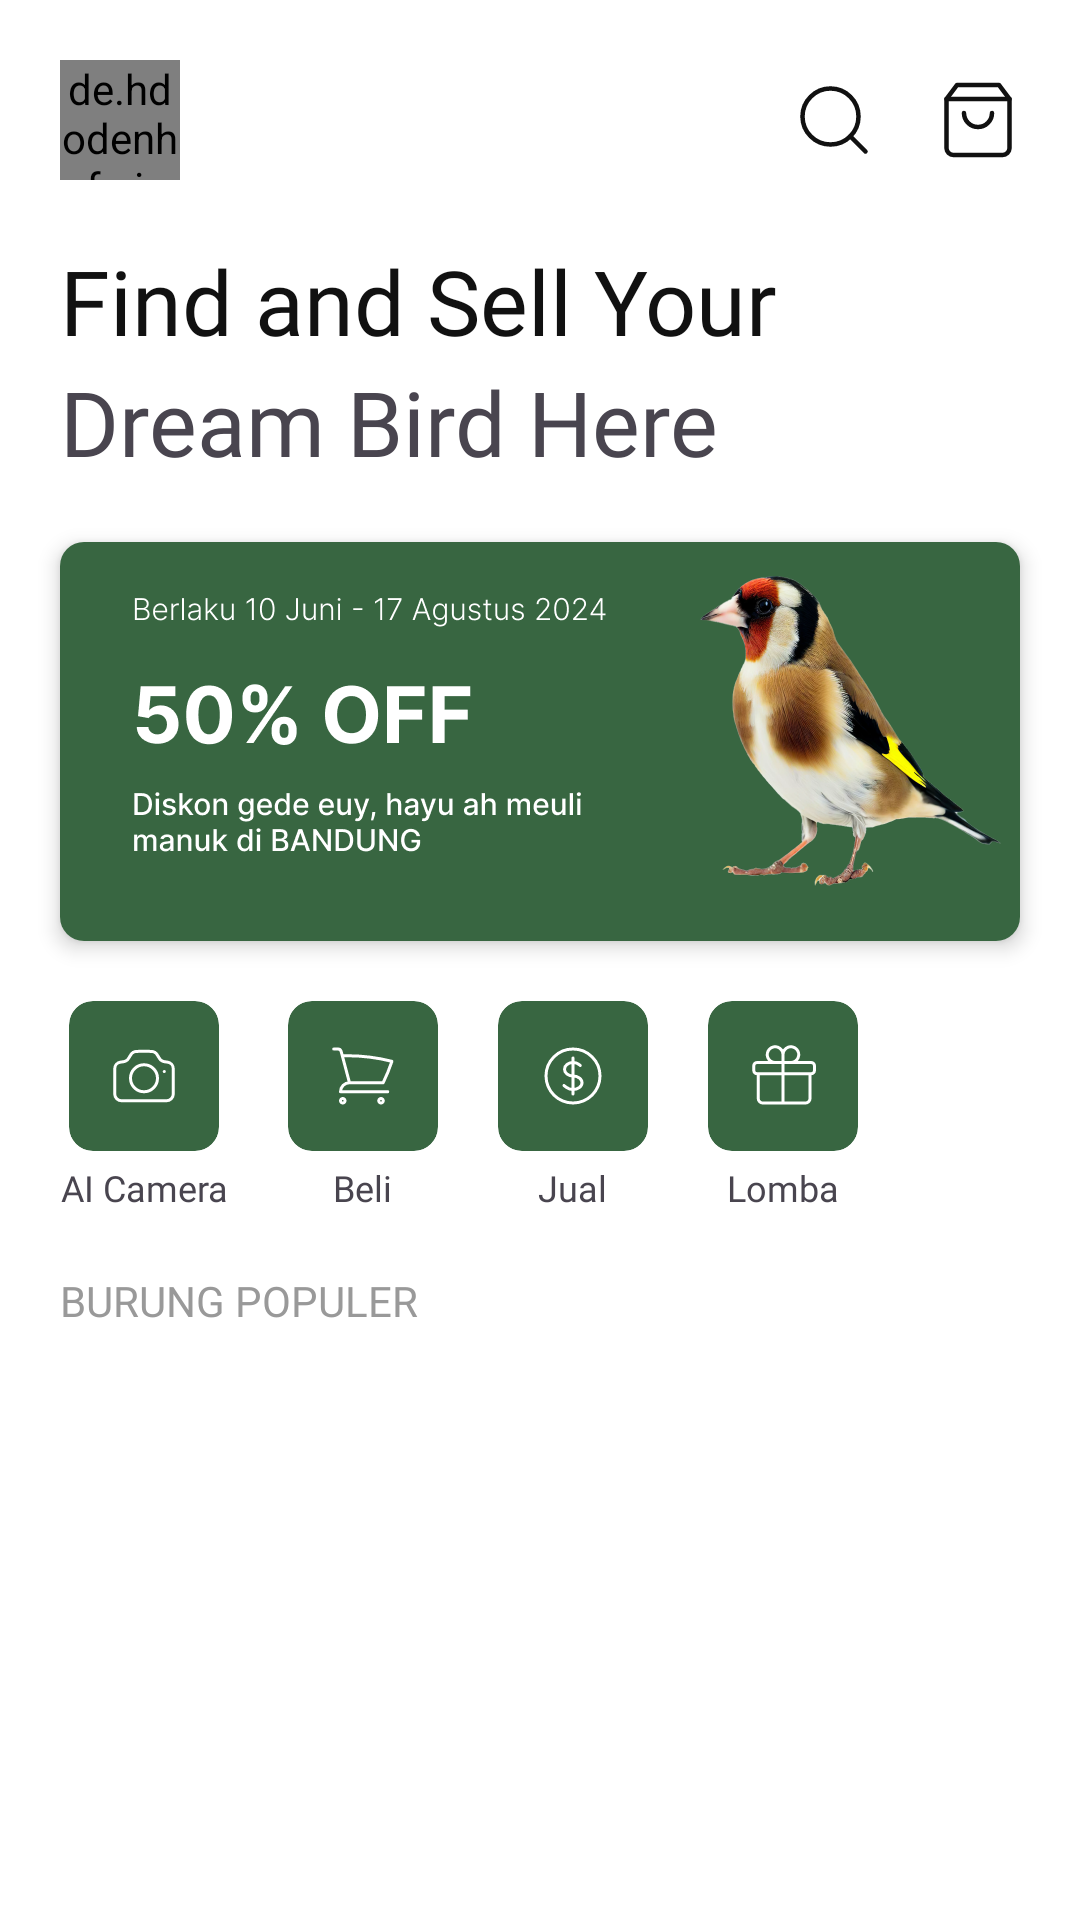

Locate icon controls on the screen. Image size 1080x1920, boxes as (x1, y1, x2, y2).
cart: (332, 1047, 394, 1105)
dollar: (544, 1047, 602, 1105)
gift: (752, 1045, 816, 1105)
search: (800, 86, 868, 154)
shopping bag: (944, 82, 1012, 158)
